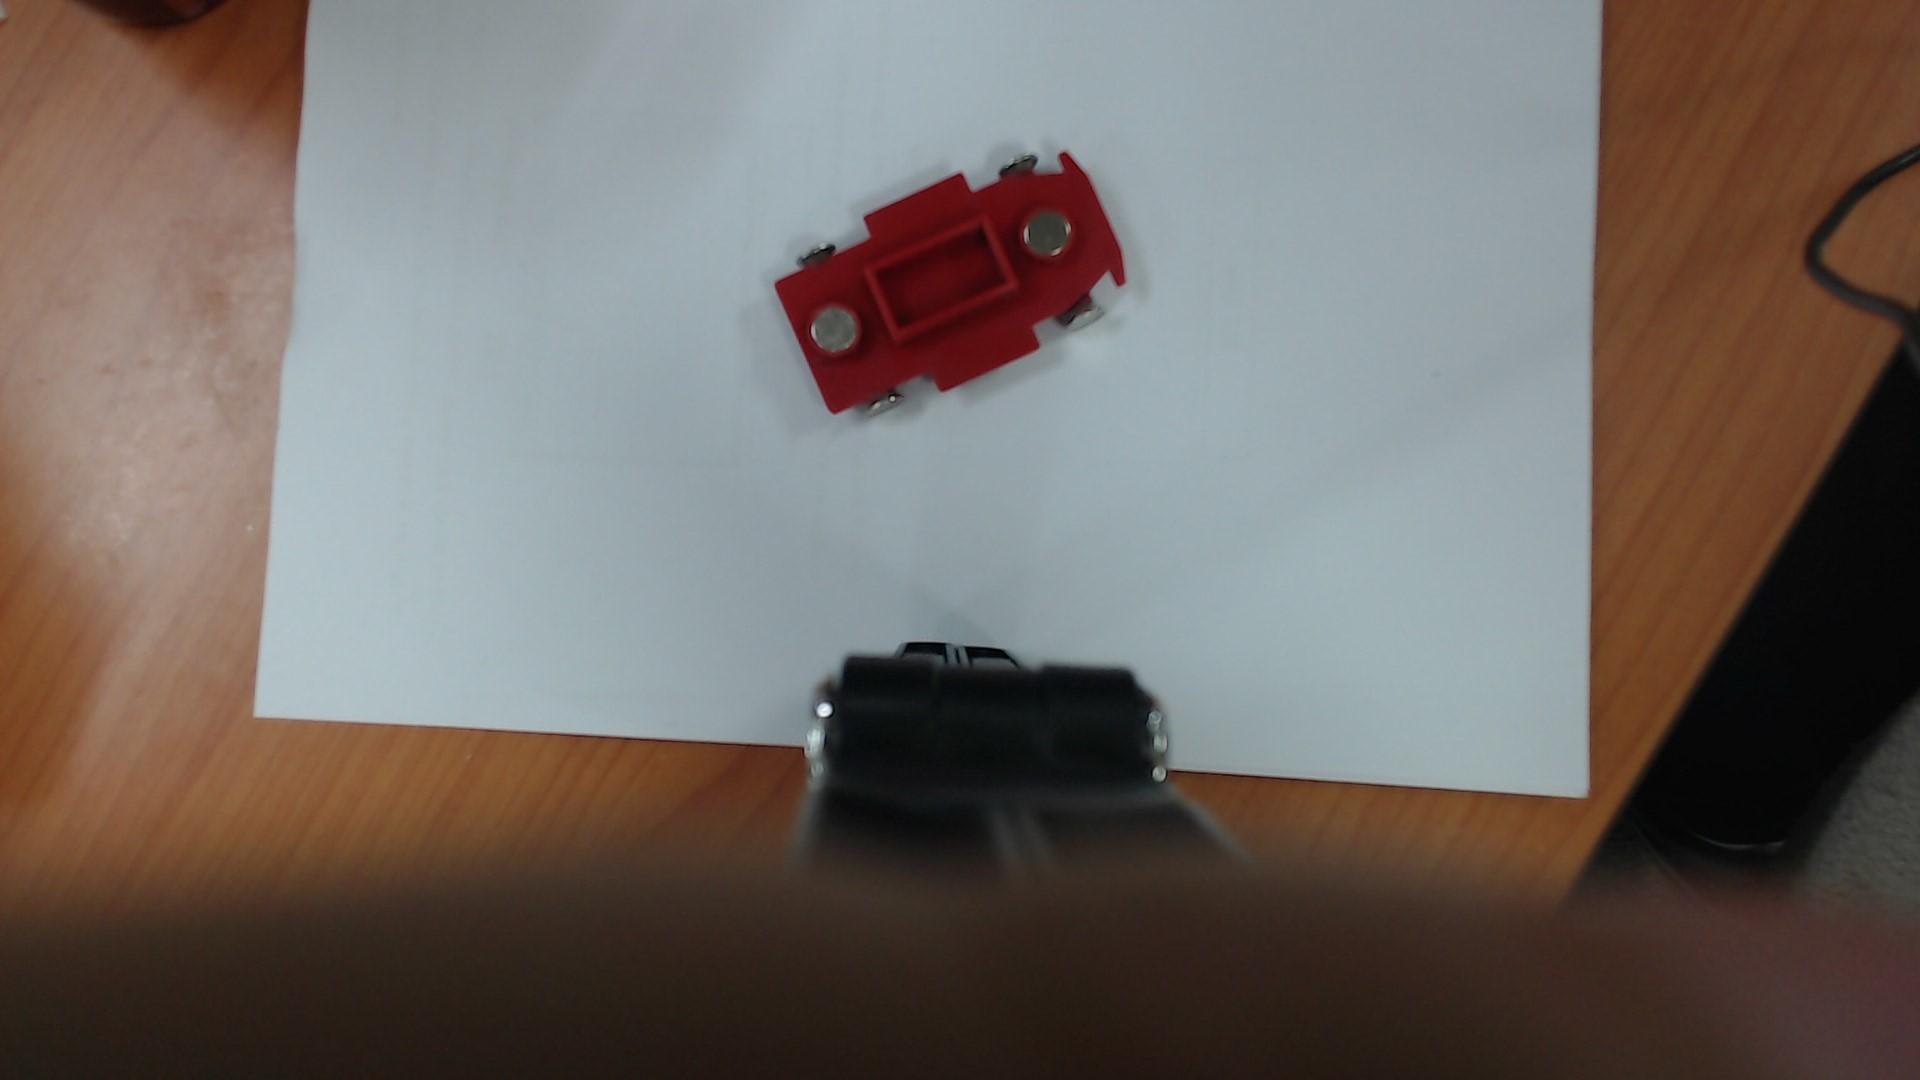lower_ok: (858, 203, 1033, 360)
